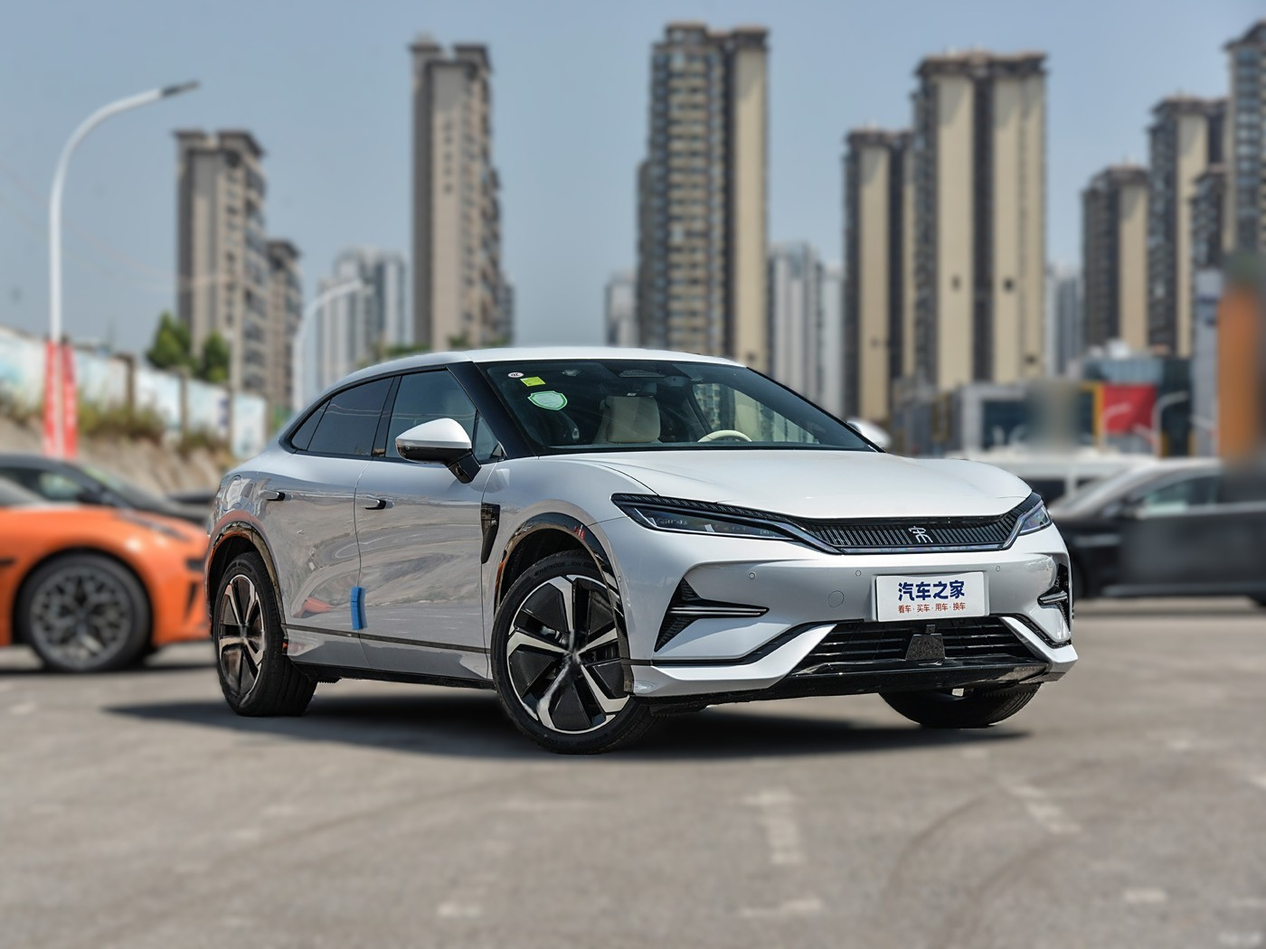BYD Song: (909, 525, 932, 542)
